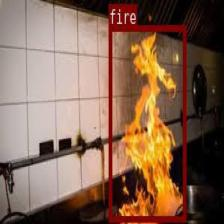fire: (108, 25, 186, 221)
